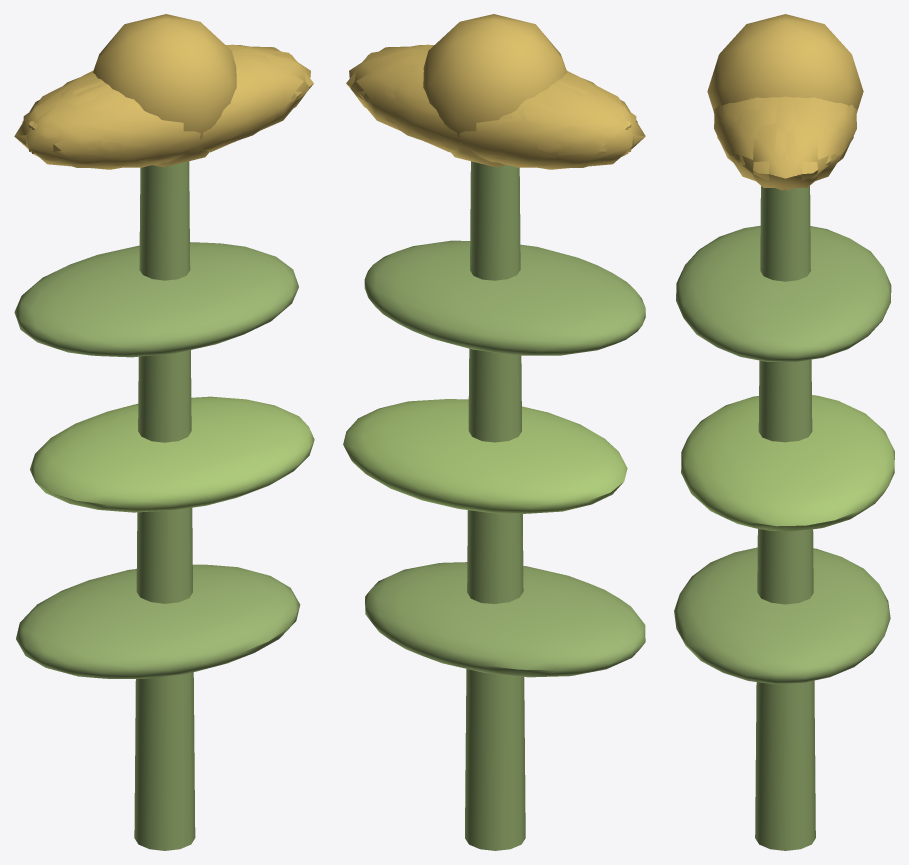
File: trimezia-coerulea.glb
3 views of the same model, side by side, from view 1: azimuth 30°, elevation 25°; view 2: azimuth 150°, elevation 25°; view 3: azimuth 270°, elevation 25° (orthographic).
Parts seen in each view (by area): view 1: stem, leaf2, leaf0, leaf1, center, petal6, petal2, petal1, petal5, petal7, petal0; view 2: stem, leaf2, leaf1, leaf0, center, petal3, petal7, petal8, petal4, petal2, petal0; view 3: stem, leaf1, leaf2, leaf0, center, petal0, petal4, petal5, petal1, petal8.
Part boxes in pixels (box(x1,y1,x2,y2)): stem: box(134, 161, 195, 850); leaf2: box(14, 242, 298, 357); leaf0: box(16, 564, 300, 678); leaf1: box(30, 396, 314, 512); center: box(93, 14, 236, 167); petal6: box(31, 83, 223, 167); petal2: box(23, 78, 171, 169); petal1: box(99, 63, 296, 165); petal5: box(160, 53, 313, 158); petal7: box(14, 73, 111, 161); petal0: box(230, 46, 310, 142); stem: box(465, 161, 525, 850); leaf2: box(364, 240, 645, 355); leaf1: box(343, 399, 627, 513); leaf0: box(365, 562, 645, 677); center: box(423, 14, 566, 167); petal3: box(436, 83, 628, 167); petal7: box(488, 78, 636, 169); petal8: box(363, 63, 561, 165); petal4: box(346, 53, 499, 158); petal2: box(548, 73, 645, 161); petal0: box(349, 46, 429, 141); stem: box(755, 186, 815, 850); leaf1: box(681, 395, 894, 531); leaf2: box(676, 225, 891, 361); leaf0: box(674, 547, 890, 684); center: box(707, 14, 863, 110); petal0: box(728, 96, 842, 187); petal4: box(773, 97, 853, 190); petal5: box(717, 97, 797, 190); petal1: box(714, 97, 762, 162); petal8: box(808, 97, 856, 162).
Size of the model in its own units: 0.1541 by 0.4156 by 0.1018.
